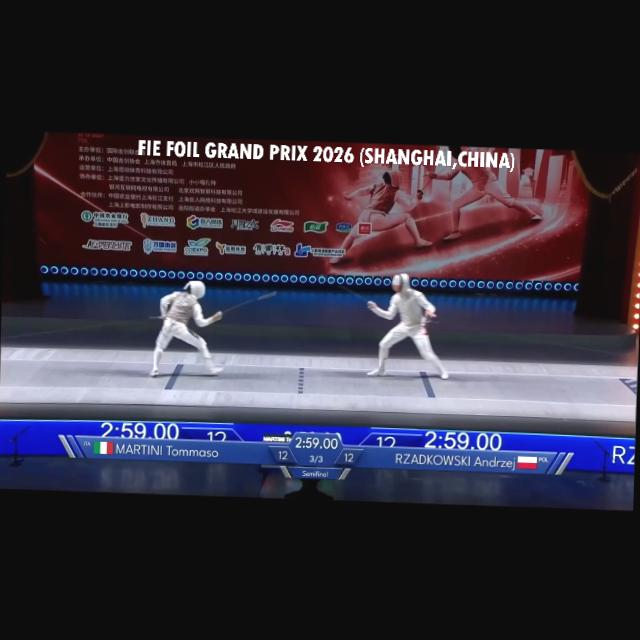blade: (214, 288, 280, 325), (314, 273, 378, 311)
